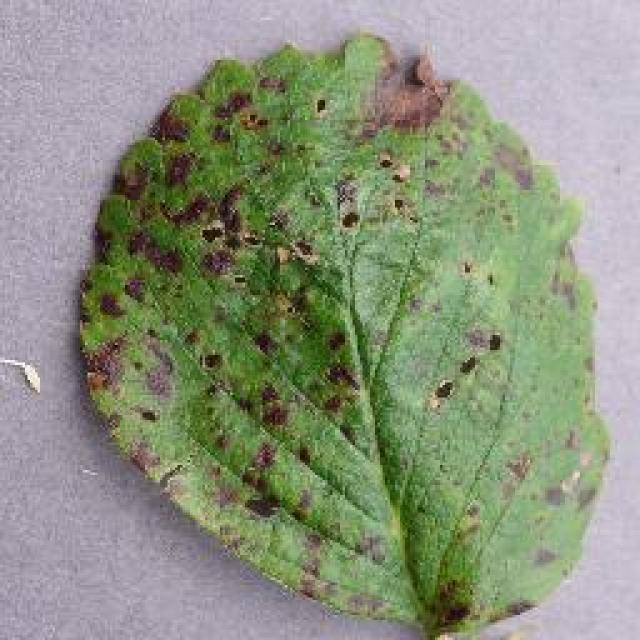Strawberry leaf scorch: (130, 73, 512, 512)
